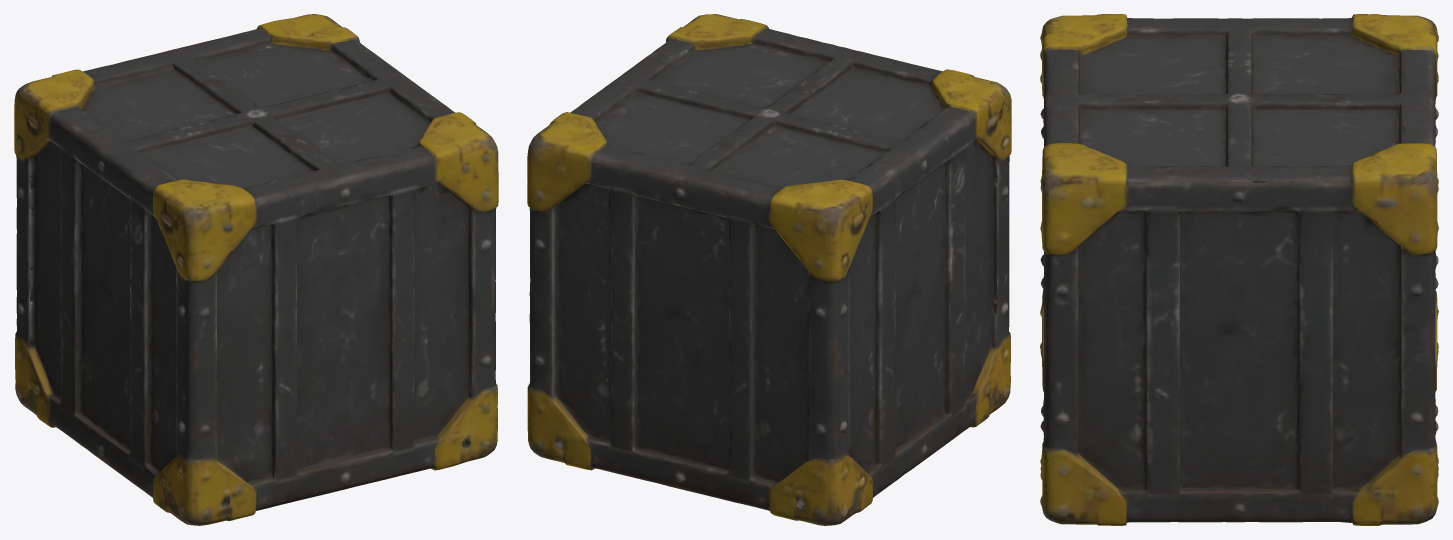
Rendered from hazard_crate_simready.glb.
3 views of the same model, side by side, from view 1: azimuth 30°, elevation 25°; view 2: azimuth 150°, elevation 25°; view 3: azimuth 270°, elevation 25° (orthographic). The views are drawn at different scales.
Parts seen in each view (by area): view 1: world; view 2: world; view 3: world.
Part boxes in pixels (<box>): world: <box>14,14,498,525</box>; world: <box>527,14,1011,525</box>; world: <box>1040,14,1438,525</box>.
Size of the model in its own units: 0.5101 by 0.4999 by 0.5096.
1 material, 1 textured.
